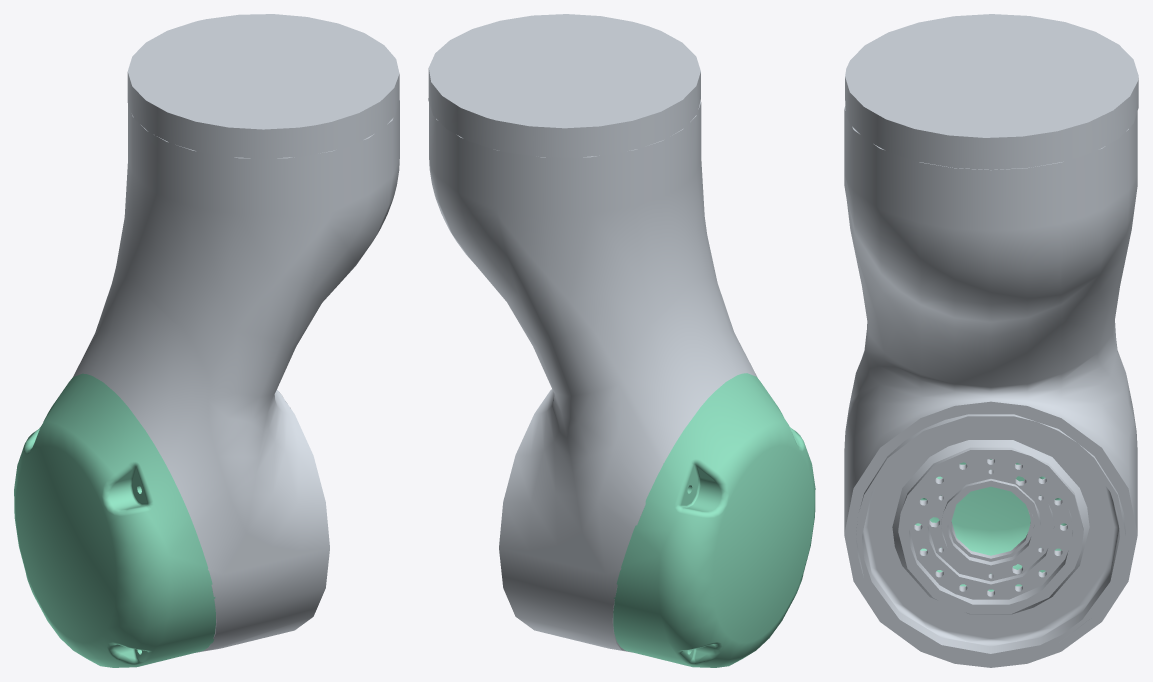
File: coro_7_link4.dae
3 renders of one model, left to right at view 1: azimuth 30°, elevation 25°; view 2: azimuth 150°, elevation 25°; view 3: azimuth 270°, elevation 25°, orthographic. The views are drawn at different scales.
Parts seen in each view (by area): view 1: __009; view 2: __009; view 3: __009.
Part boxes in pixels (x1=…): __009: x1=14, y1=14, x2=399, y2=667; __009: x1=428, y1=14, x2=815, y2=667; __009: x1=844, y1=14, x2=1138, y2=667.
Bounding box in the file's own units: 0.1721 × 0.1254 × 0.2788.
